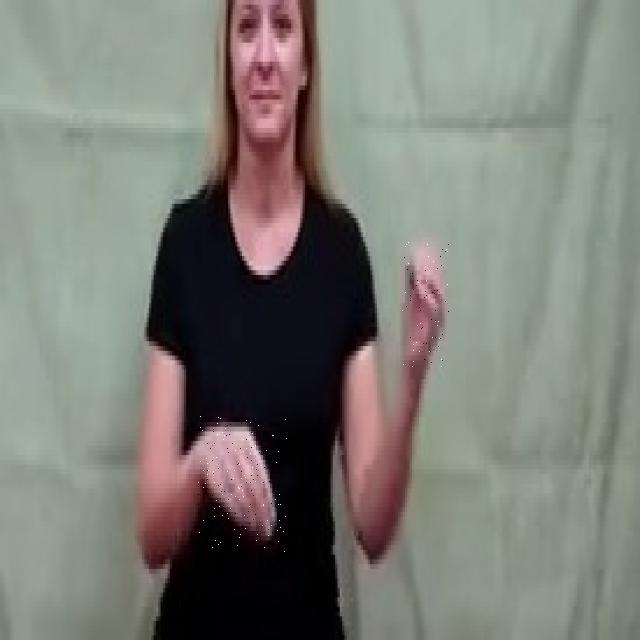ingredients: (198, 416, 288, 552), (402, 242, 450, 370)
